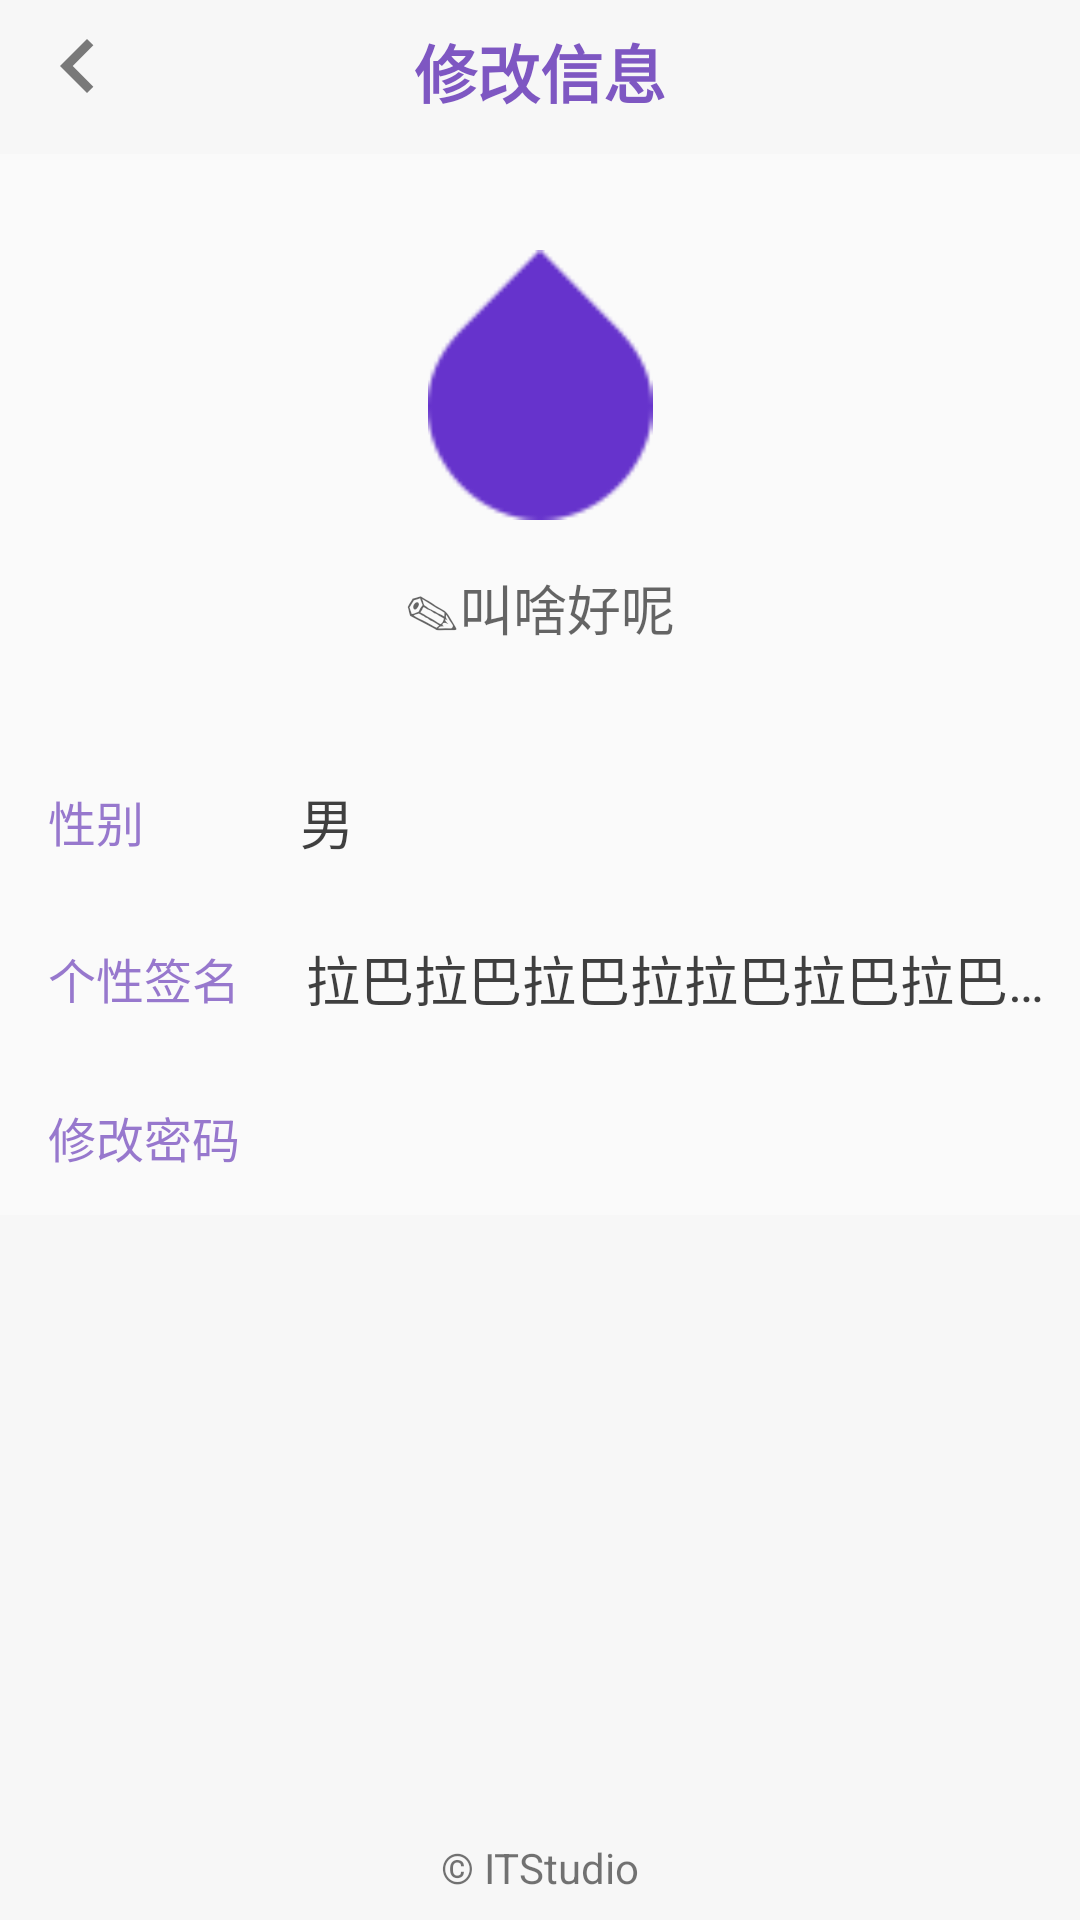

Where to tap for icons on this 1080px x 1920px app screen, as [x,y]:
chevron left: [76,66]
